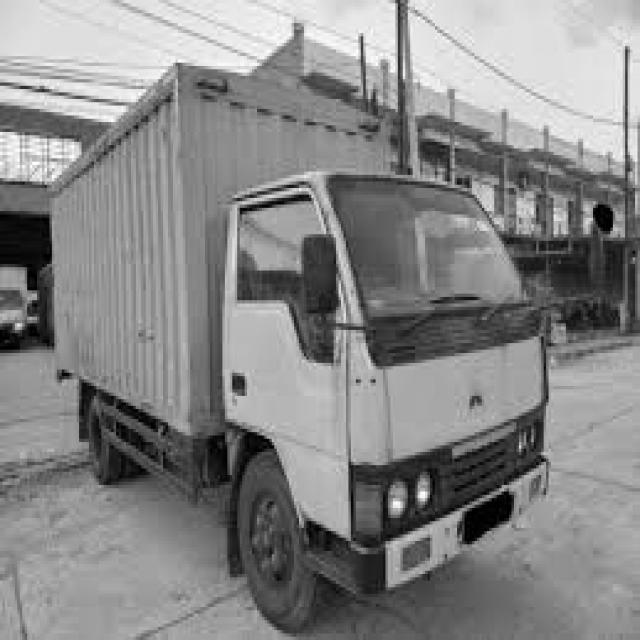truck: (189, 127, 616, 640)
